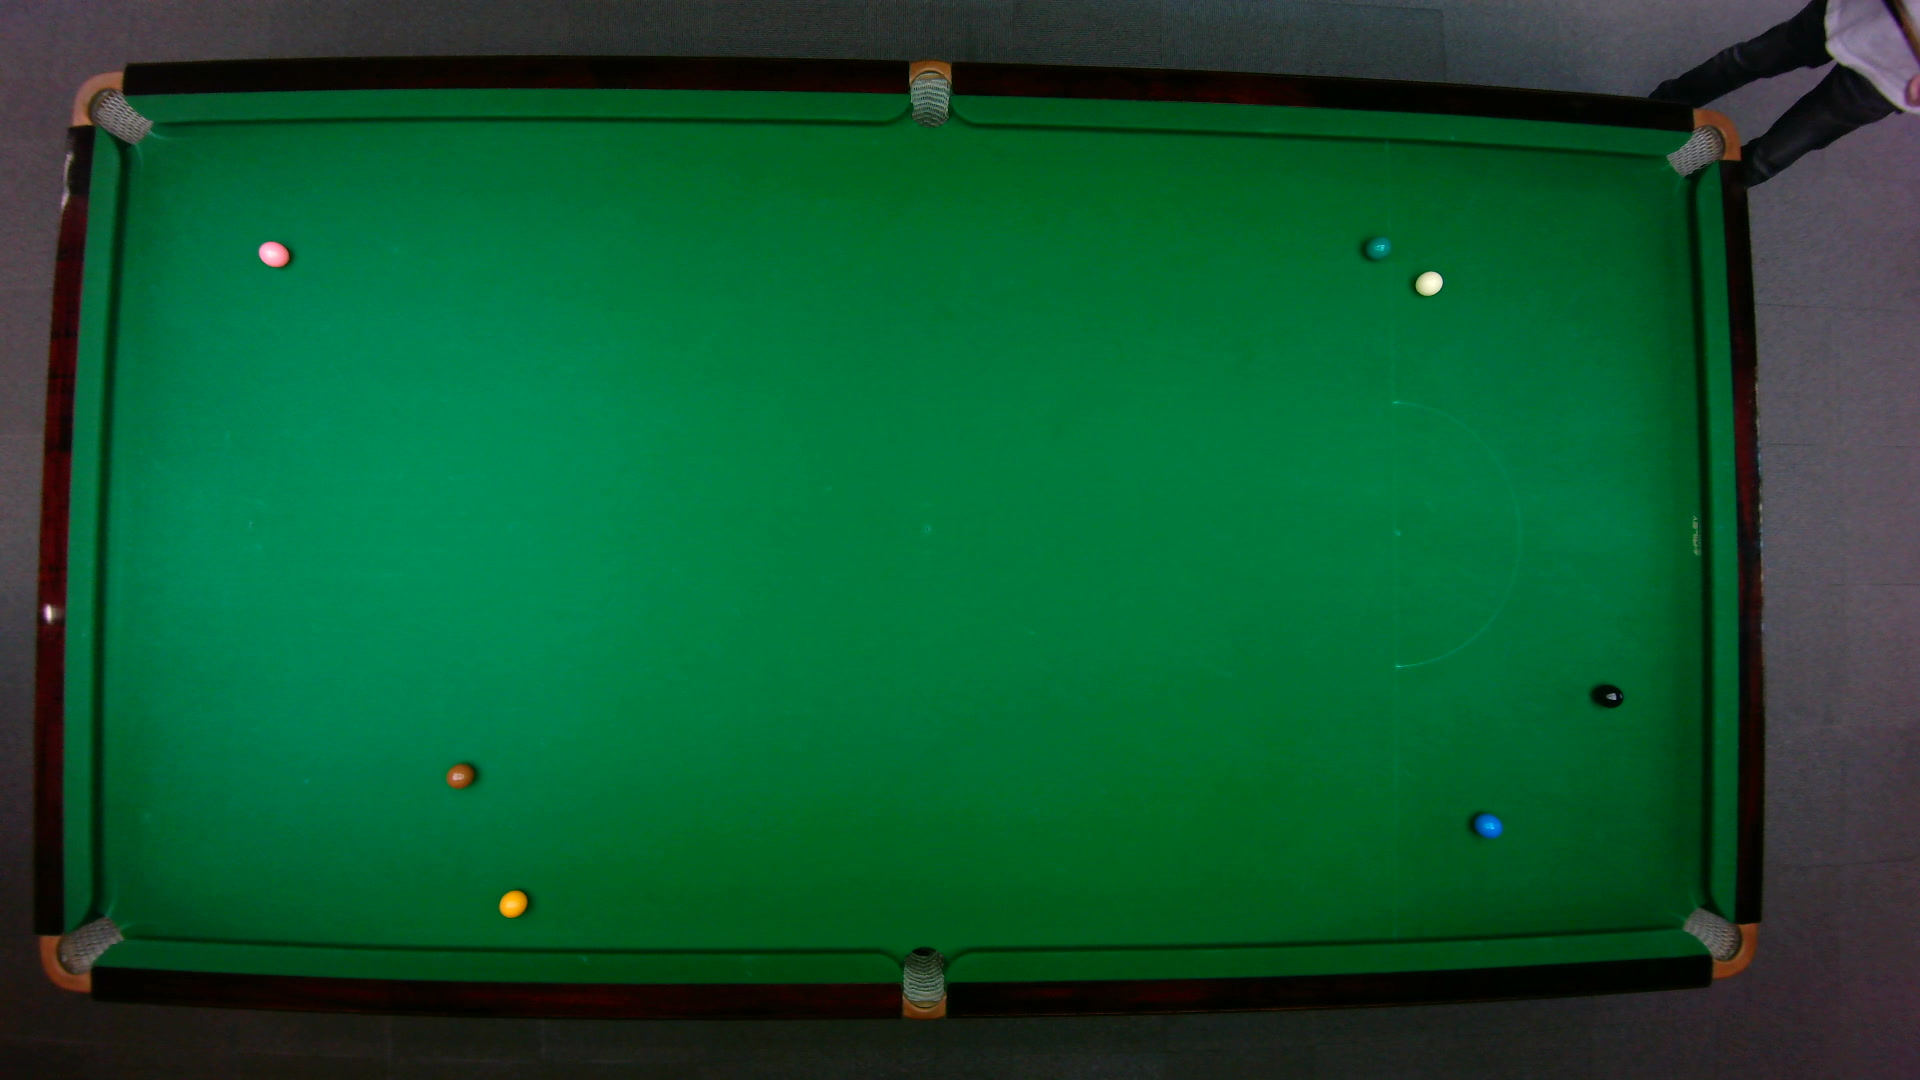bag: (37, 914, 125, 993), (69, 69, 153, 145), (1679, 905, 1756, 978), (1663, 108, 1741, 177), (901, 944, 944, 1021), (909, 57, 949, 128)
black: (1592, 682, 1625, 708)
blue: (1472, 811, 1503, 837)
brown: (444, 761, 475, 789)
green: (1364, 233, 1393, 258)
pink: (256, 237, 290, 268)
white: (1412, 269, 1444, 295)
yellow: (497, 887, 527, 918)
zone: (1390, 400, 1520, 669)
